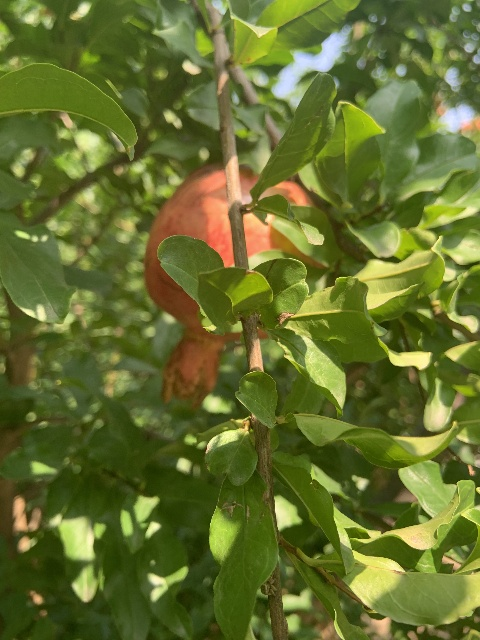ripe: (144, 161, 306, 406)
